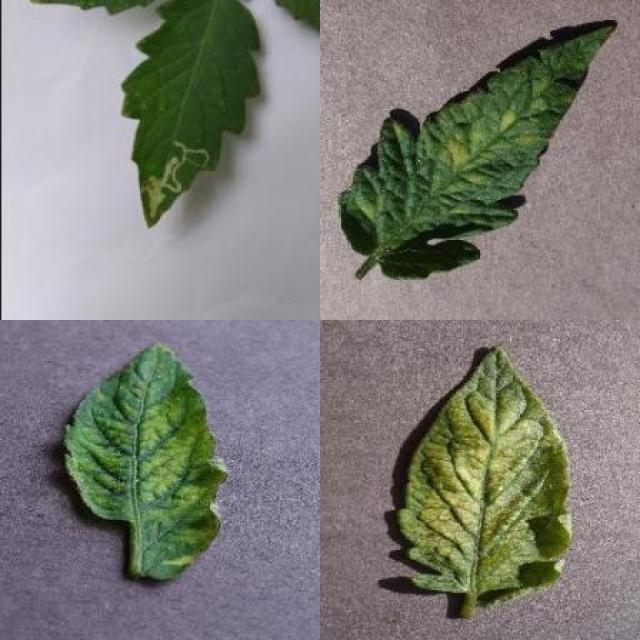Leaf Miner: (118, 2, 262, 232)
Leaf Mold: (337, 22, 619, 281)
Mosaic Virus: (62, 340, 228, 583)
Spider Mites: (397, 344, 576, 592)
